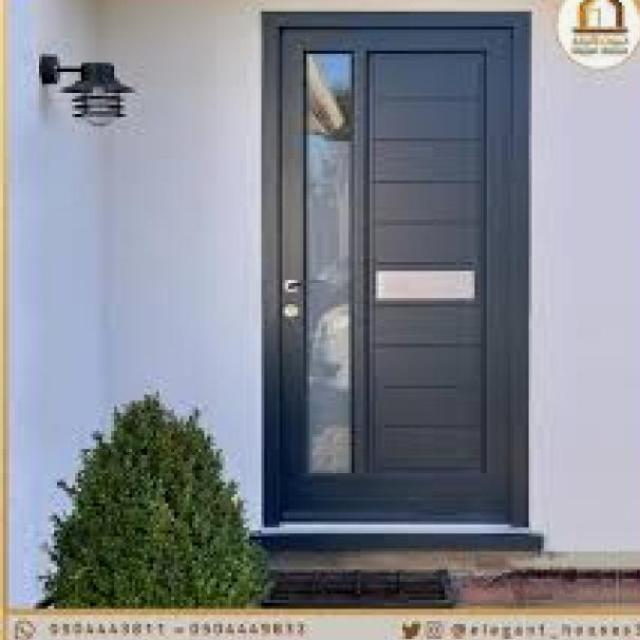door: (264, 12, 530, 528)
